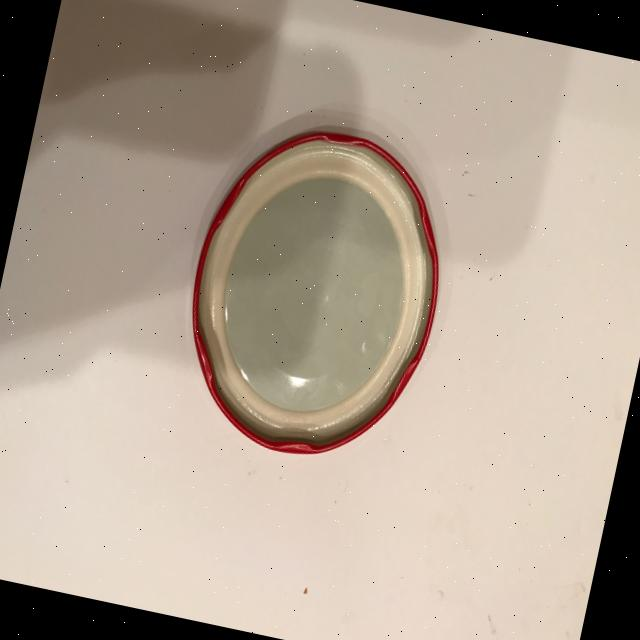metal: (162, 105, 469, 478)
